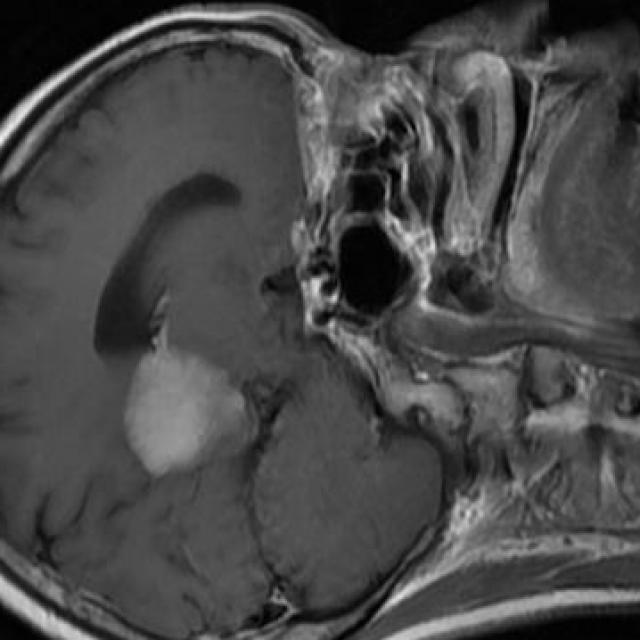meningioma: (123, 351, 244, 476)
